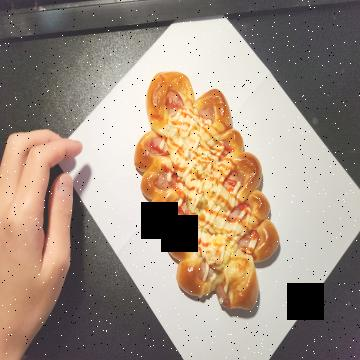pizza_bread: (136, 71, 282, 319)
